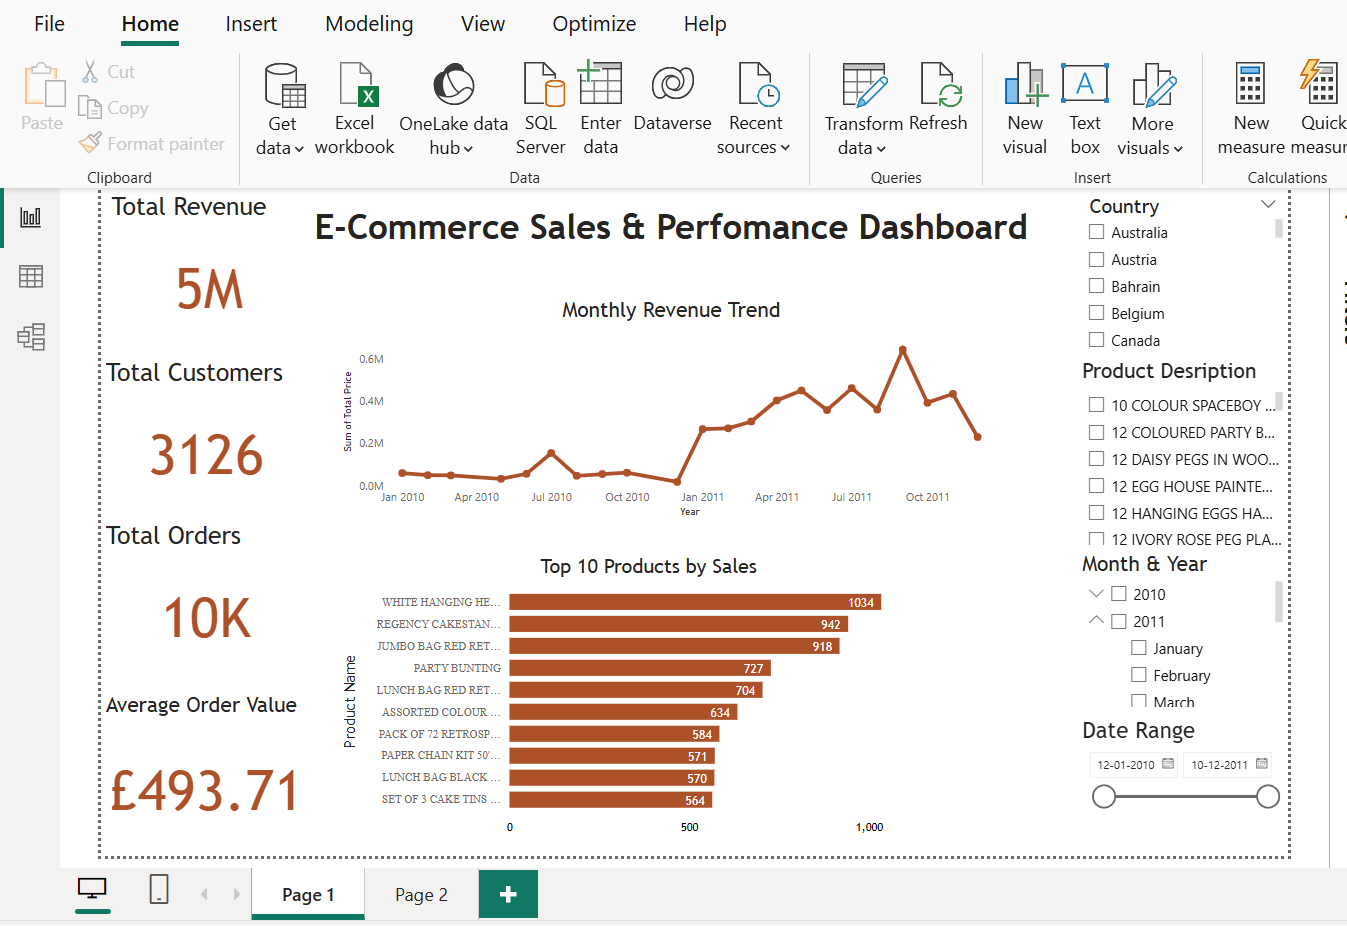

The dashboard page shown, as its layout file describes it:
{"tool":"powerbi","page":{"name":"Page 1","canvas":[1280,720],"ordinal":0},"visuals":[{"type":"card","title":"Total Revenue ","fields":{"Values":["data.Total Revenue"]},"box":[0,0,226.5,175.6],"z":0},{"type":"card","title":"Total Customers ","fields":{"Values":["data.total customers"]},"box":[0,175.6,226.5,175.6],"z":1000},{"type":"card","title":"Average Order Value","fields":{"Values":["data.AvgOrderValue"]},"box":[0,543.7,226.5,175.6],"z":2000},{"type":"card","title":"Total Orders","fields":{"Values":["data.Total orders"]},"box":[0,351.2,226.5,175.6],"z":3000},{"type":"slicer","fields":{"Values":["data.Country"]},"box":[1053.5,1.9,226.5,175.6],"z":4000},{"type":"slicer","title":"Month & Year","fields":{"Values":["data.Date.Variation.Date Hierarchy.Year","data.Date.Variation.Date Hierarchy.Month"]},"box":[1053.5,388.9,226.5,175.6],"z":5000},{"type":"slicer","title":"Date Range ","fields":{"Values":["data.Date"]},"box":[1053.5,564.5,226.5,134],"z":6000},{"type":"slicer","title":"Product Desription","fields":{"Values":["data.Product Description"]},"box":[1053.5,177.5,226.5,211.4],"z":7000},{"type":"lineChart","title":"Monthly Revenue Trend","fields":{"Y":["Sum(data.Total Price)"],"Category":["data.Date.Variation.Date Hierarchy.Year","data.Date.Variation.Date Hierarchy.Month"]},"box":[254.9,117.1,719.3,243.5],"z":8000},{"type":"barChart","title":"Top 10 Products by Sales","fields":{"Category":["data.Product Description"],"Y":["CountNonNull(data.Product Description)"]},"box":[254.9,388.9,670.2,315.3],"z":9000},{"type":"textbox","box":[207.7,15.1,815.6,88.7],"z":10000}]}

Visuals, with their boxes on the page's 1280x720 design canvas (x1, y1, x2, y2). These are canvas units, not pixel positions in the 1347x926 screenshot, which may show the page scaled, cropped or inside an application window:
"Total Revenue " card: region(0, 0, 226, 176)
"Total Customers " card: region(0, 176, 226, 351)
"Average Order Value" card: region(0, 544, 226, 719)
"Total Orders" card: region(0, 351, 226, 527)
slicer - data.Country: region(1054, 2, 1280, 178)
"Month & Year" slicer: region(1054, 389, 1280, 564)
"Date Range " slicer: region(1054, 564, 1280, 698)
"Product Desription" slicer: region(1054, 178, 1280, 389)
"Monthly Revenue Trend" lineChart: region(255, 117, 974, 361)
"Top 10 Products by Sales" barChart: region(255, 389, 925, 704)
textbox: region(208, 15, 1023, 104)
